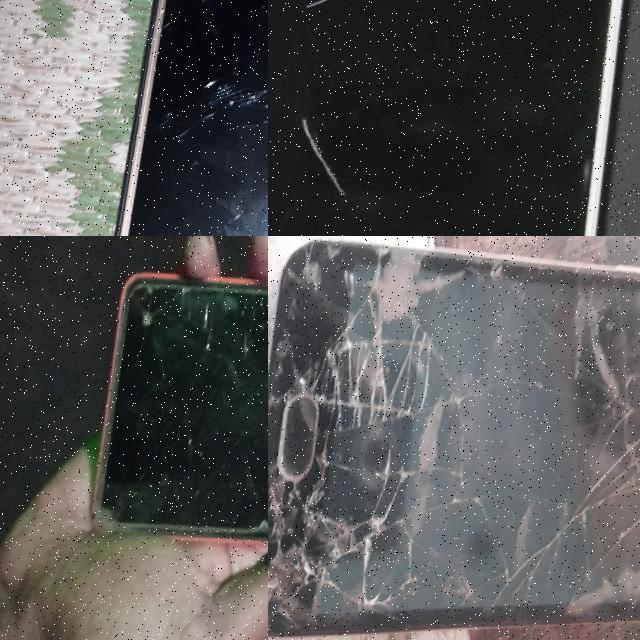scratch: (152, 56, 268, 158), (299, 113, 360, 194), (307, 0, 380, 6)
screen crack: (268, 237, 640, 627), (112, 268, 195, 365), (81, 479, 150, 558), (196, 269, 230, 365)
